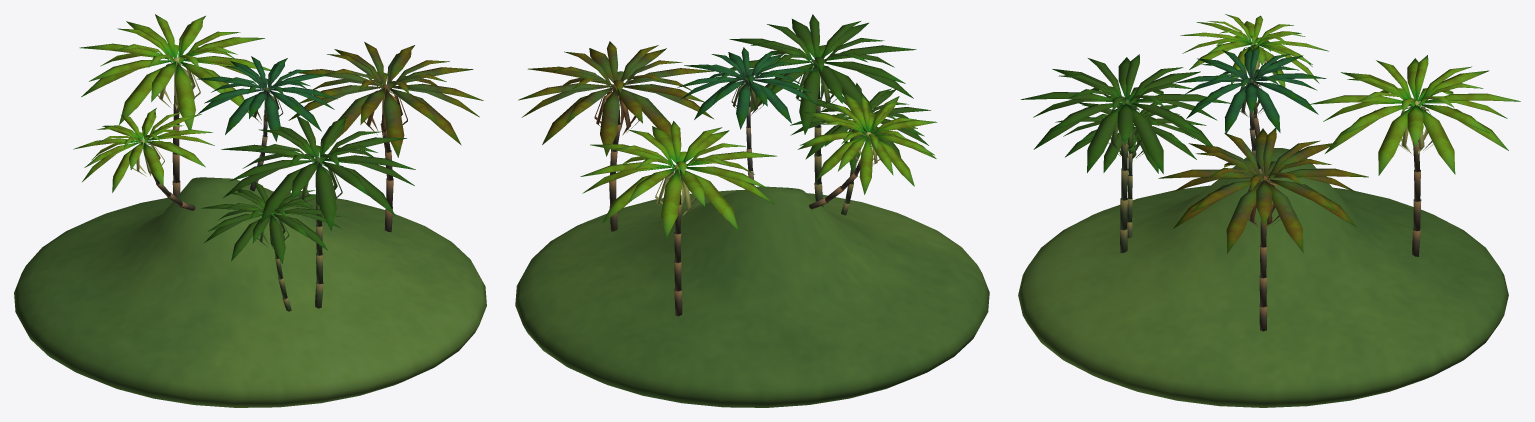
File: Groupofpalms.obj
3 renders of one model, left to right at view 1: azimuth 30°, elevation 25°; view 2: azimuth 150°, elevation 25°; view 3: azimuth 270°, elevation 25°, orthographic. The views are drawn at different scales.
Parts seen in each view (by area): view 1: GroupPalms; view 2: GroupPalms; view 3: GroupPalms.
Boxes of the visible parts, x1,y1,x2,y2 form: GroupPalms: (14, 14, 486, 407); GroupPalms: (515, 14, 989, 407); GroupPalms: (1018, 14, 1520, 407).
Bounding box in the file's own units: 14.05 × 8.16 × 13.77.
